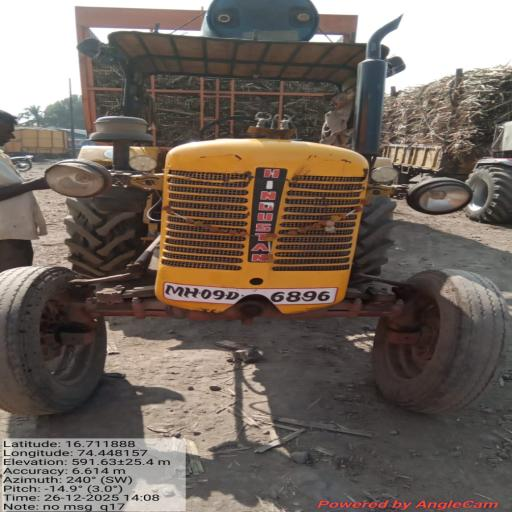number_plate: (164, 283, 337, 304)
